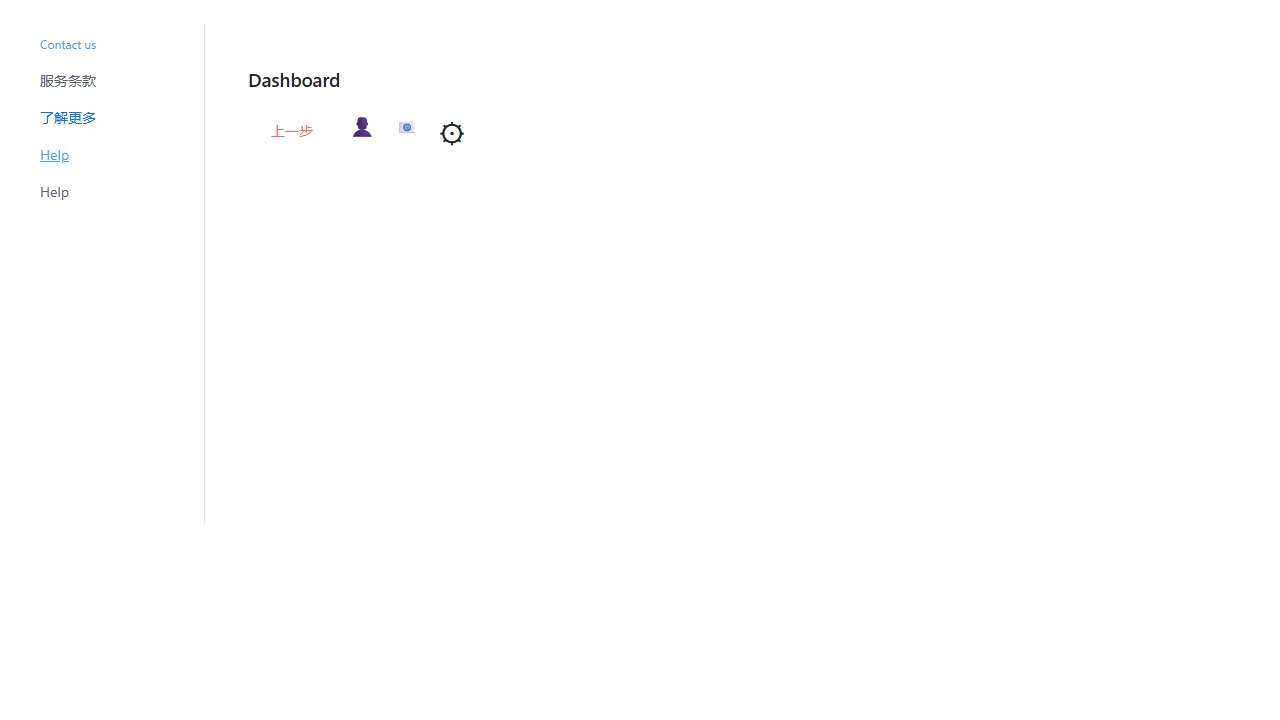button: (256, 116, 328, 146)
icon: (439, 116, 466, 148), (348, 116, 376, 136), (396, 119, 418, 135)
link: (40, 71, 96, 90), (40, 108, 96, 127), (40, 36, 96, 52), (40, 145, 69, 164), (40, 182, 69, 201)
